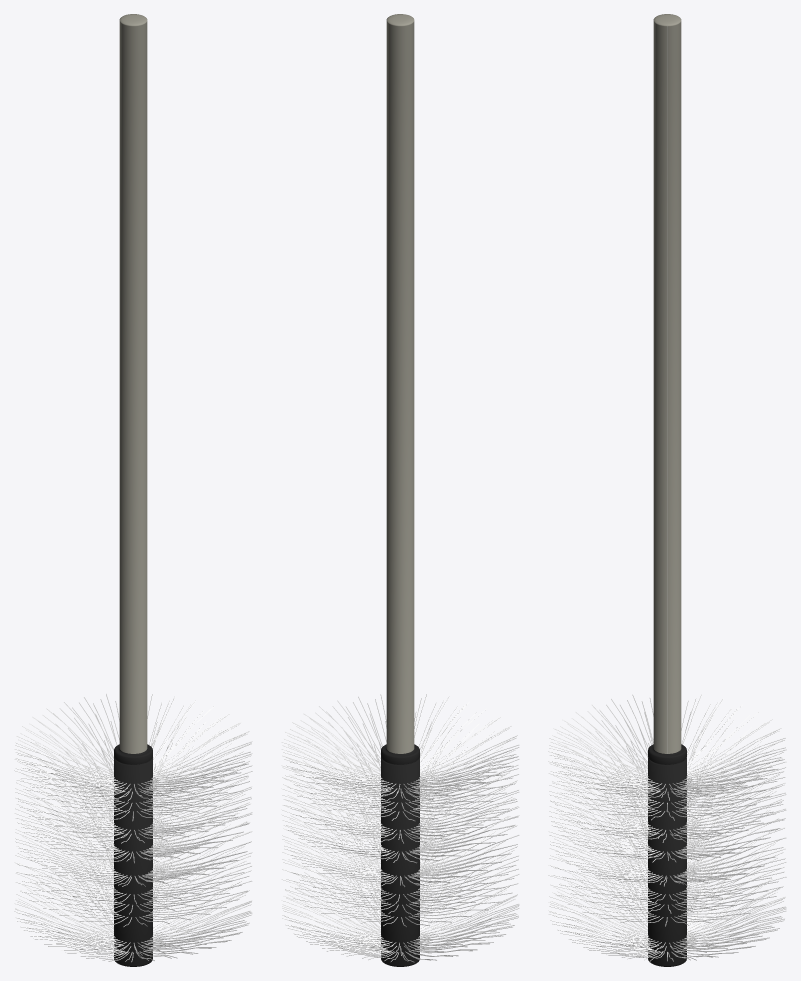
The model's file is Toilet_Brush.glb.
3 renders of one model, left to right at view 1: azimuth 30°, elevation 25°; view 2: azimuth 150°, elevation 25°; view 3: azimuth 270°, elevation 25°, orthographic.
Parts seen in each view (by area): view 1: Object_12; view 2: Object_12; view 3: Object_12.
Part boxes in pixels (bbox=[...]): Object_12: bbox=[14, 14, 252, 966]; Object_12: bbox=[281, 14, 519, 966]; Object_12: bbox=[548, 14, 786, 966].
Size of the model in its own units: 0.1636 by 0.7127 by 0.1636.
Materials: 2 (1 with a texture image).
